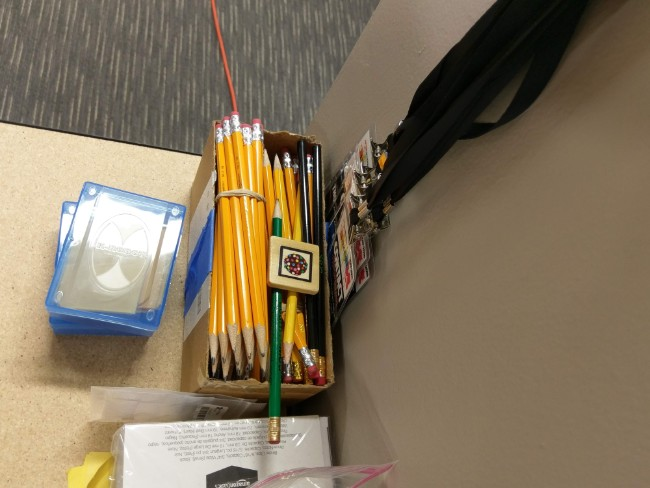cookie: (274, 241, 318, 287)
